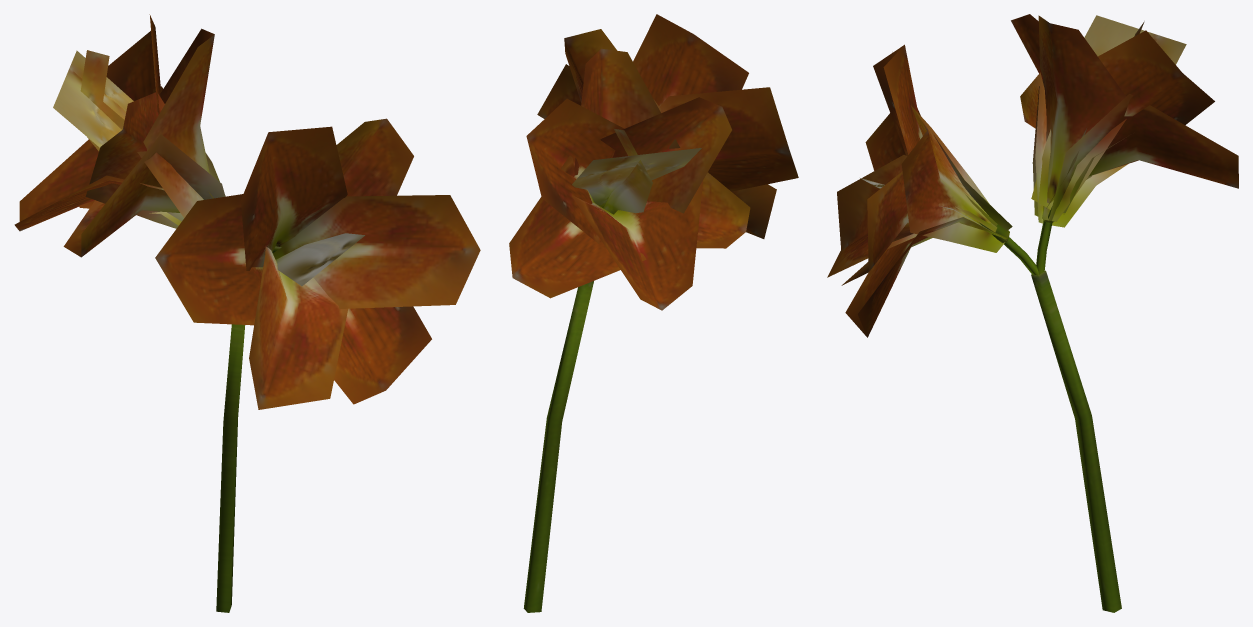
The model's file is Amaryllis_baby_short_peach.glb.
The picture shows the model from 3 angles, left to right: view 1: azimuth 30°, elevation 25°; view 2: azimuth 150°, elevation 25°; view 3: azimuth 270°, elevation 25°; orthographic projection. The views are drawn at different scales.
Parts seen in each view (by area): view 1: baby; view 2: baby; view 3: baby.
Boxes of the visible parts, x1,y1,x2,y2 form: baby: [14, 14, 480, 612]; baby: [509, 14, 798, 612]; baby: [827, 14, 1238, 612].
Bounding box in the file's own units: 0.6819 × 1.24 × 0.8184.
1 material, 1 textured.
